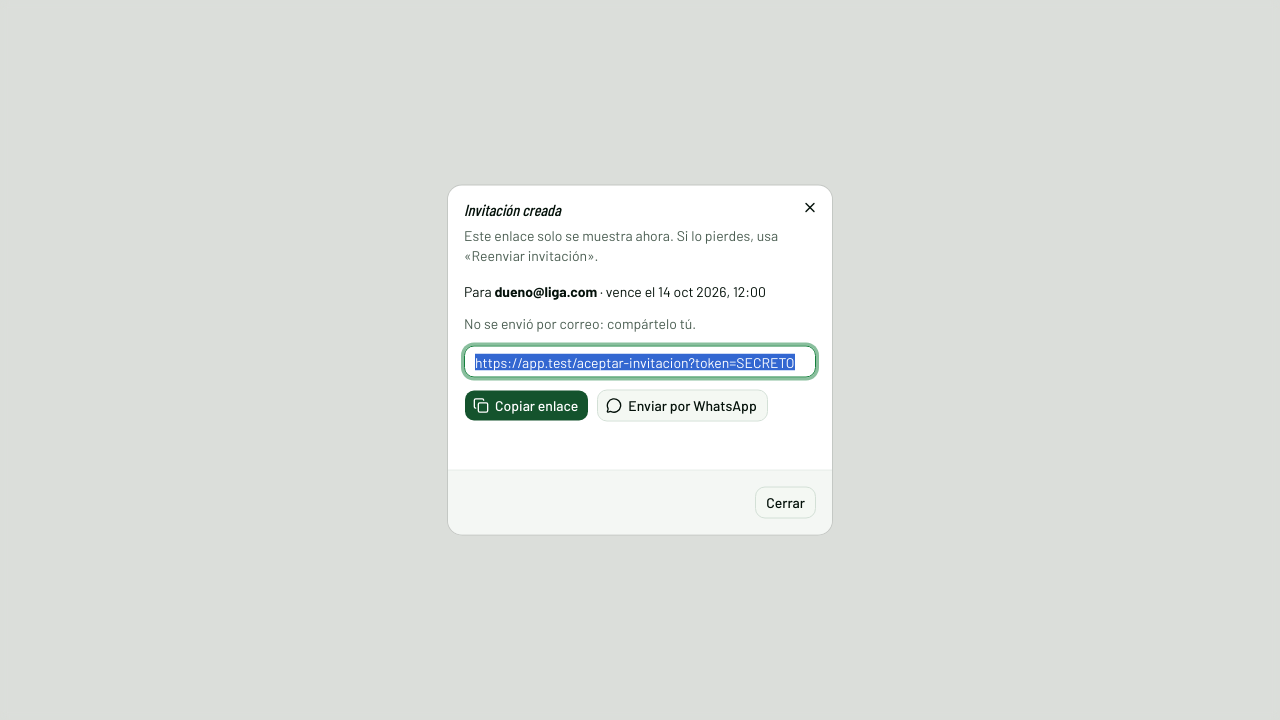
Test: EnlaceInvitacionDialog › si el portapapeles falla, avisa y deja el enlace seleccionado
Step 1. Click the button "Copiar enlace" → (527, 406), box x1=464 y1=390 x2=589 y2=422
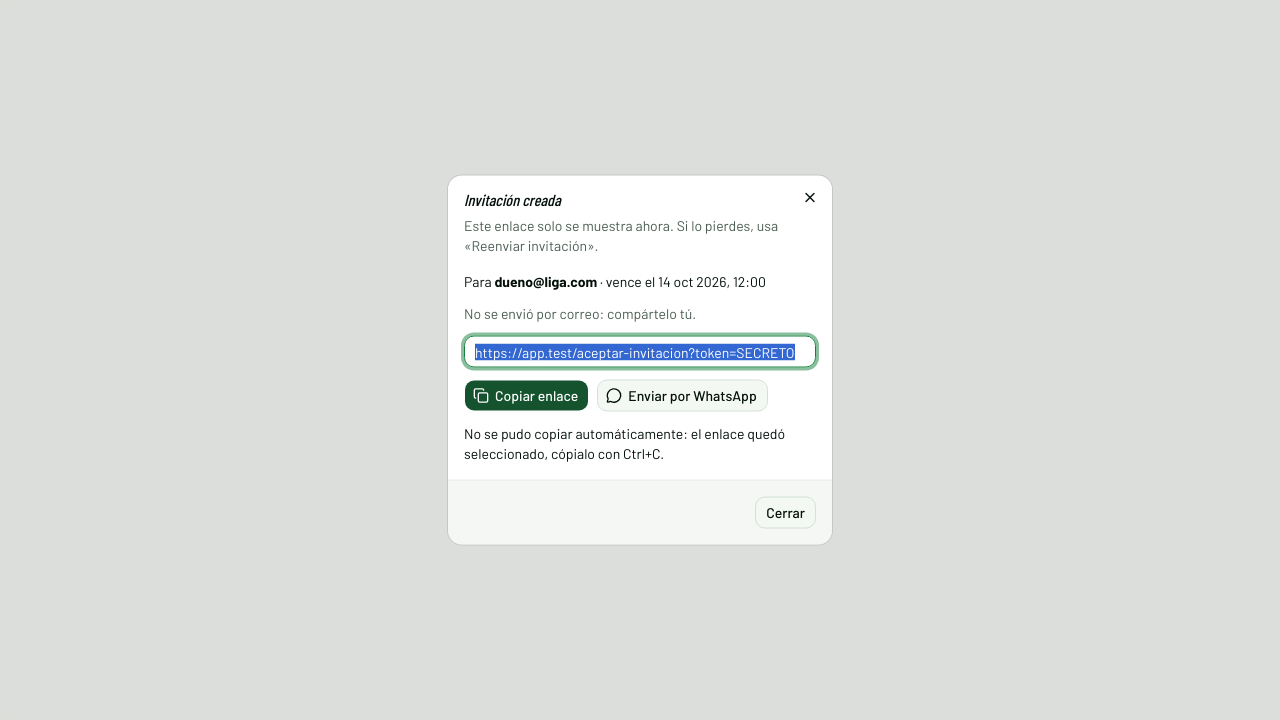
Expected: the text "No se pudo copiar automáticamente" is shown, x1=464 y1=424 x2=785 y2=462
